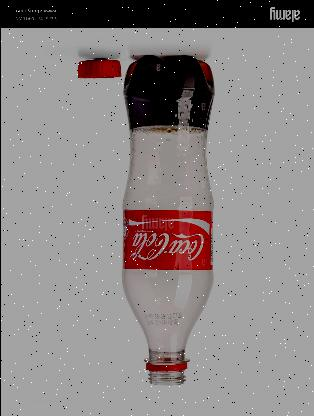Plastic Bottle: (119, 54, 213, 386)
